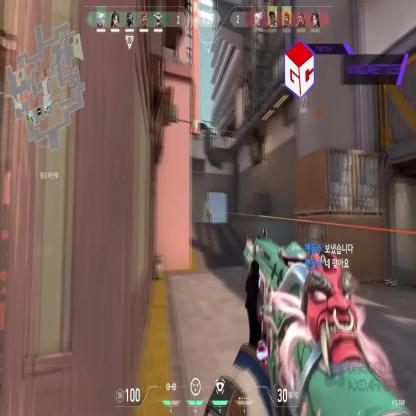enemy: (206, 205, 212, 224)
enemy_head: (208, 205, 210, 209)
